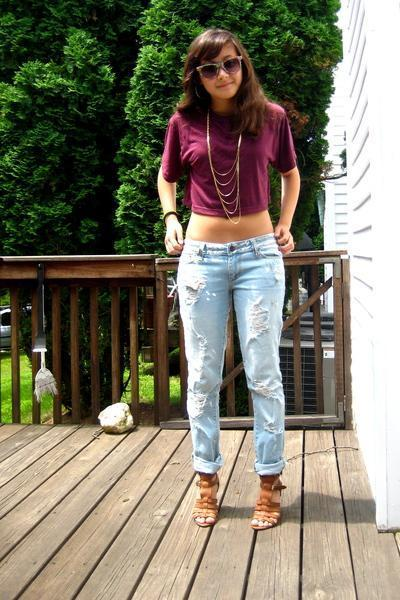pants: (174, 233, 299, 476)
shirt: (158, 108, 297, 218)
shoe: (180, 471, 286, 539)
sunglass: (208, 92, 232, 111)
